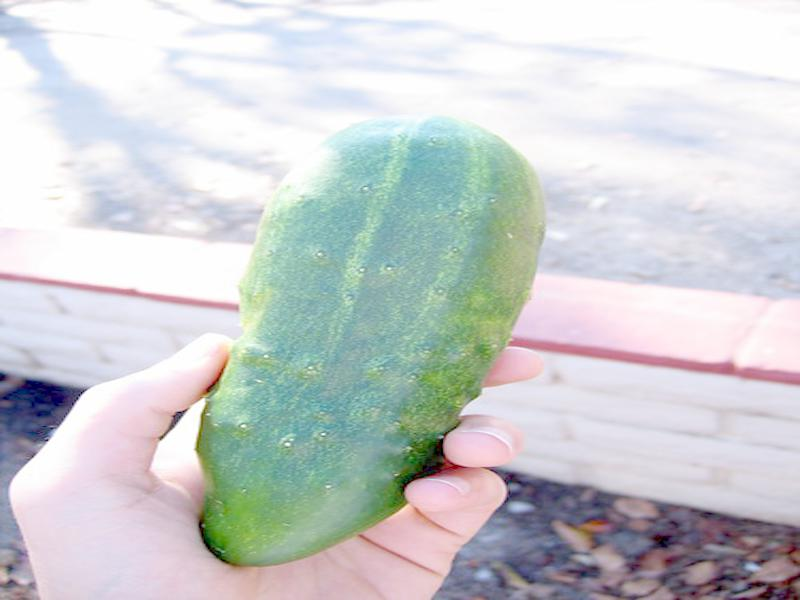Cucumber: (198, 118, 548, 565)
